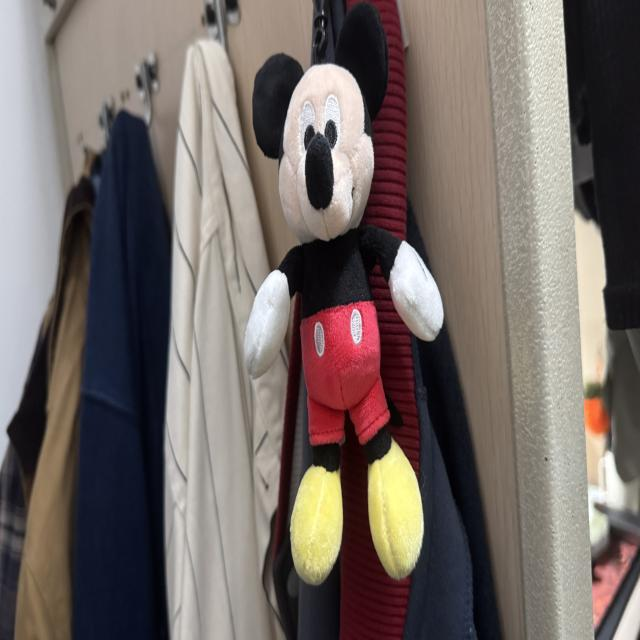mickey: (245, 3, 443, 584)
